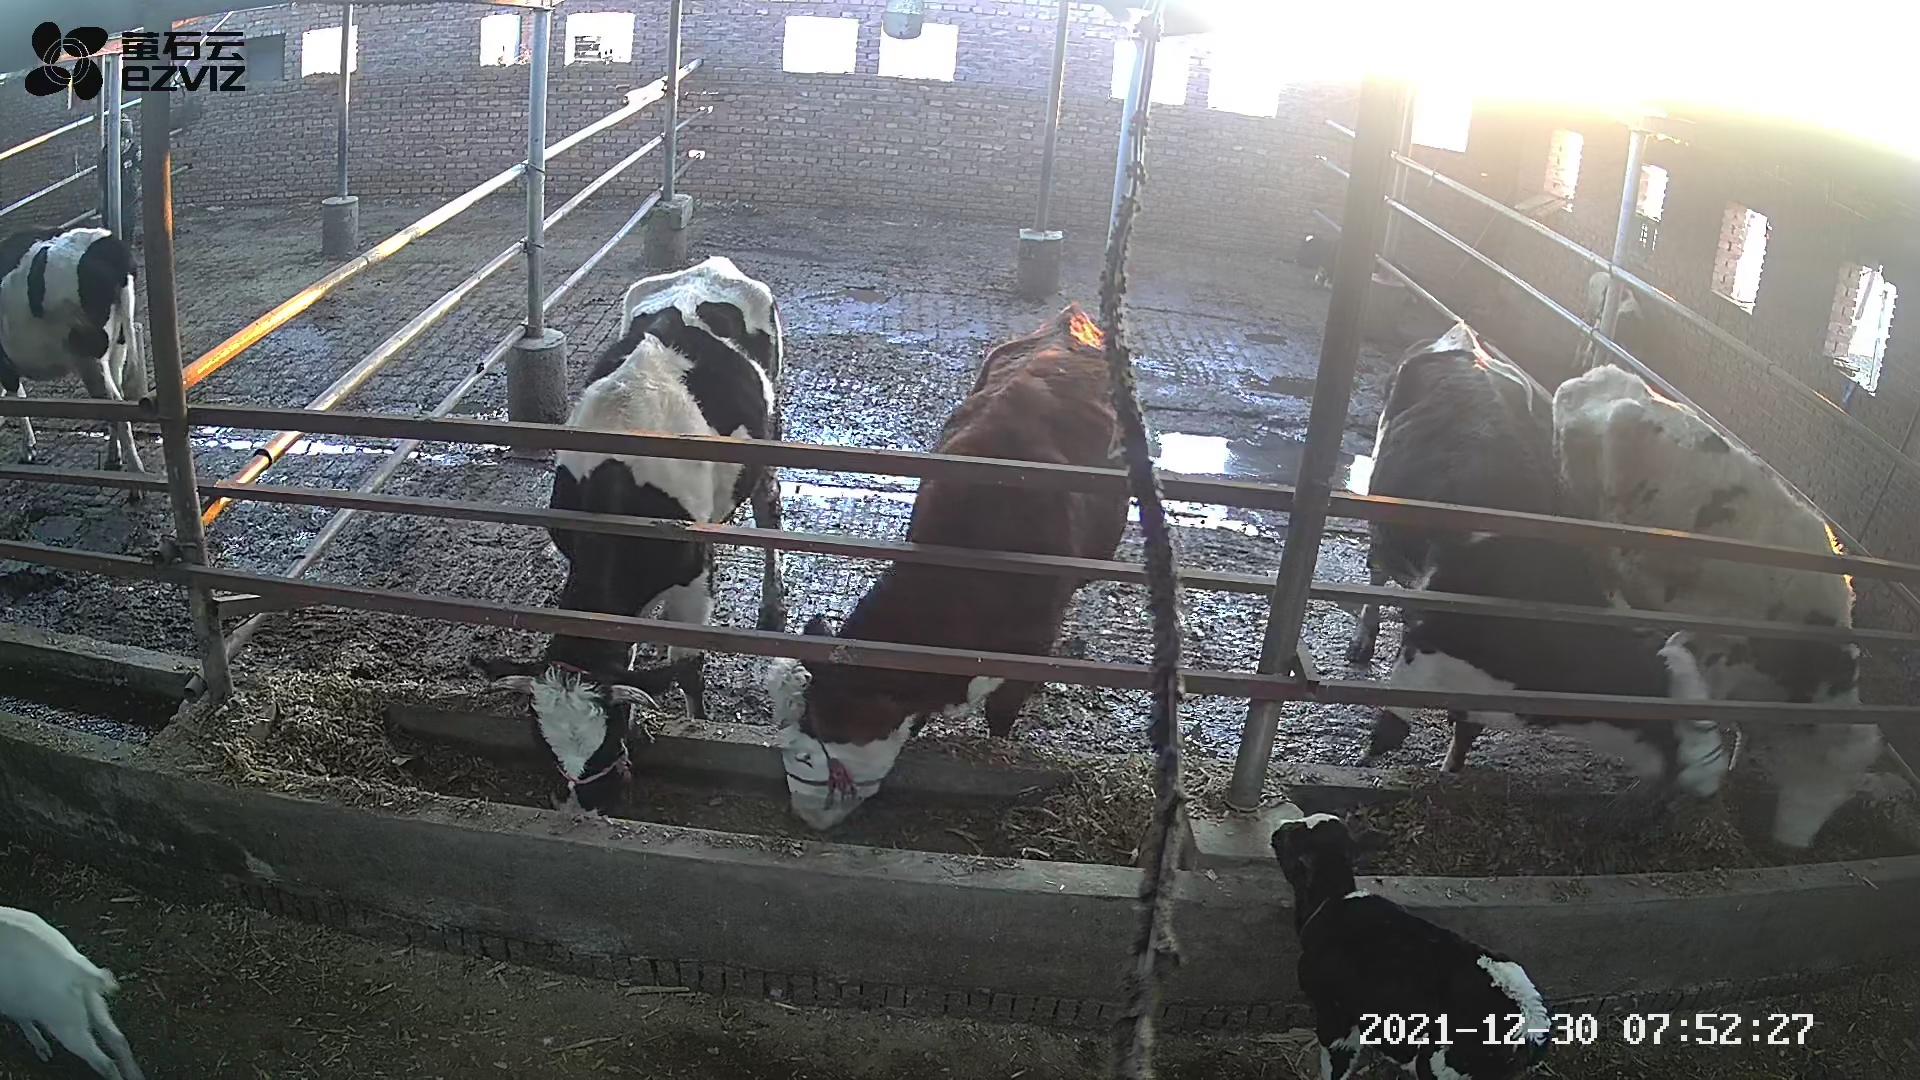cow: (760, 301, 1133, 835), (1338, 313, 1727, 796), (465, 255, 789, 818), (1549, 363, 1884, 852)
